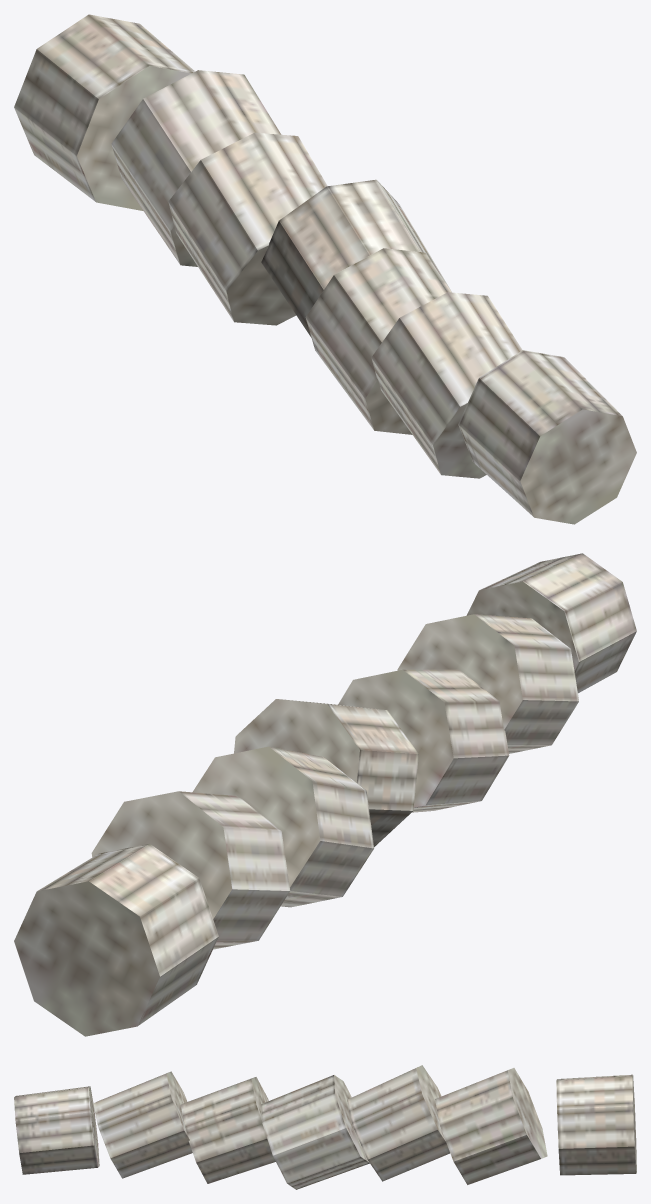
File: column_fallen_b.dae
3 renders of one model, top to bottom at view 1: azimuth 30°, elevation 25°; view 2: azimuth 150°, elevation 25°; view 3: azimuth 270°, elevation 25°, orthographic. The views are drawn at different scales.
Parts seen in each view (by area): view 1: Cylinder_001-Pivot; view 2: Cylinder_001-Pivot; view 3: Cylinder_001-Pivot.
Boxes of the visible parts, x1,y1,x2,y2 form: Cylinder_001-Pivot: (14,14,636,524); Cylinder_001-Pivot: (14,553,636,1036); Cylinder_001-Pivot: (14,1065,636,1189).
Bounding box in the file's own units: 2.17 × 11.84 × 2.46.
